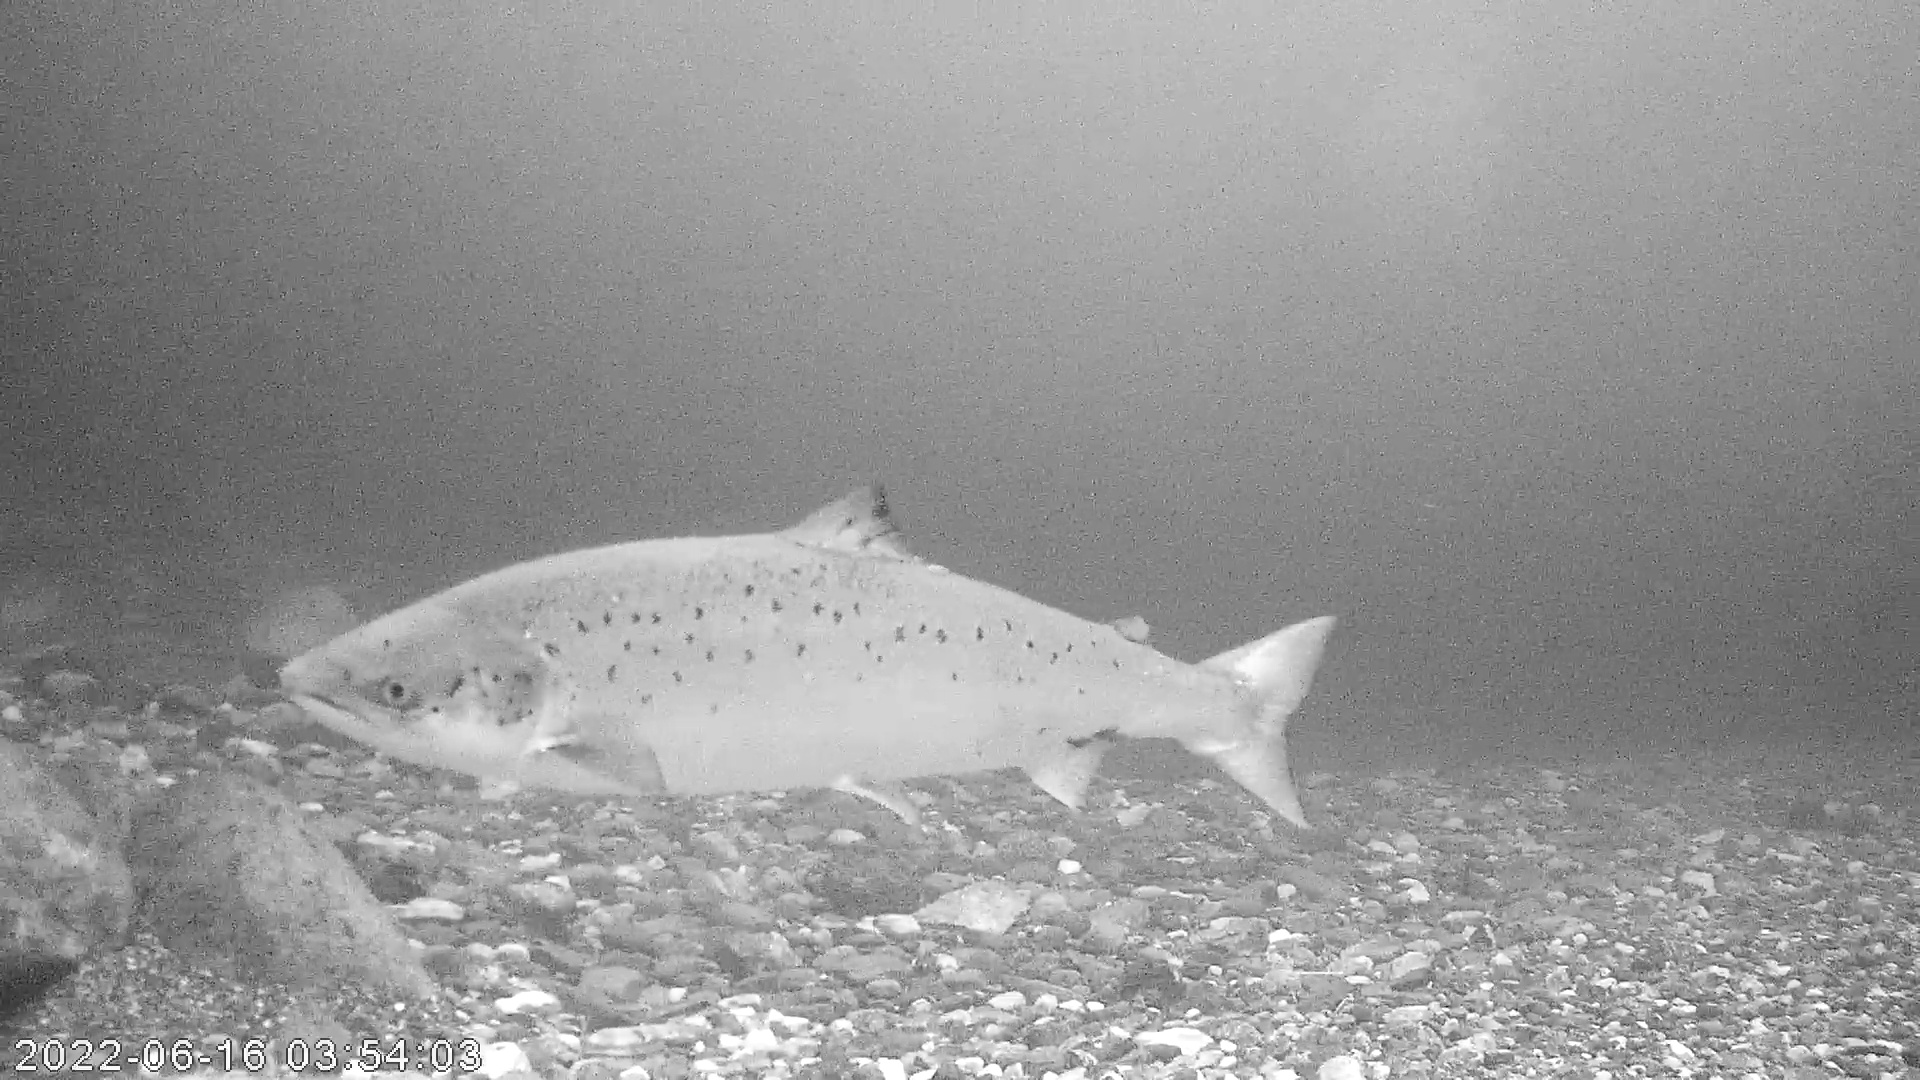salmon: (276, 480, 1337, 827)
